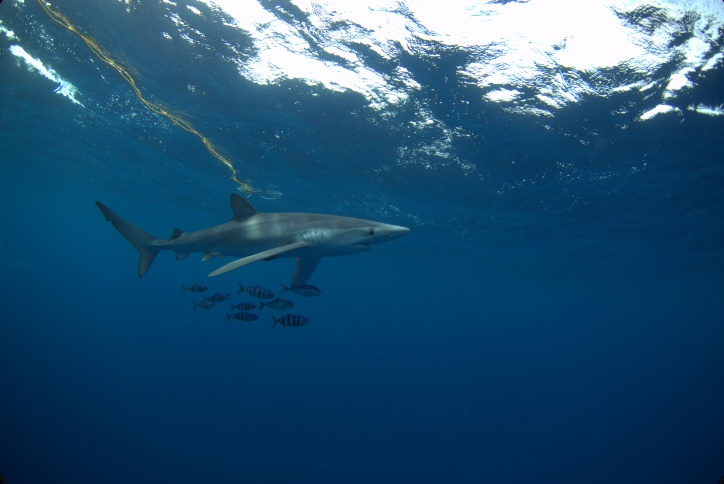Azul: (82, 156, 435, 330)
